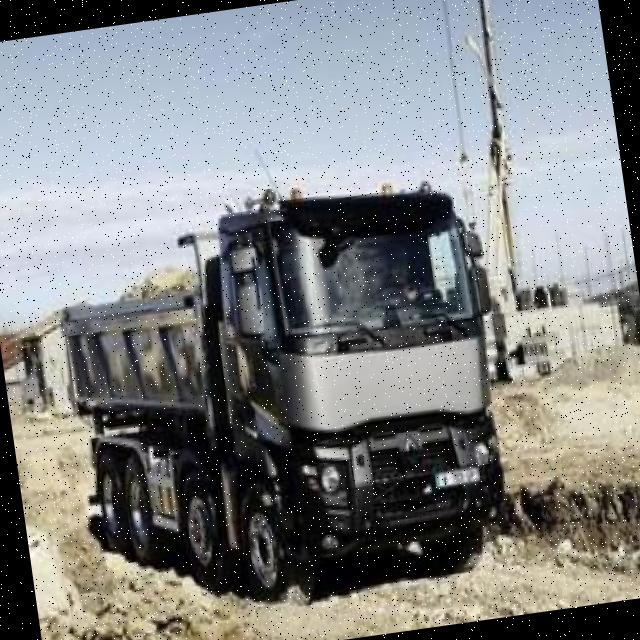Dump Truck: (32, 118, 528, 624)
